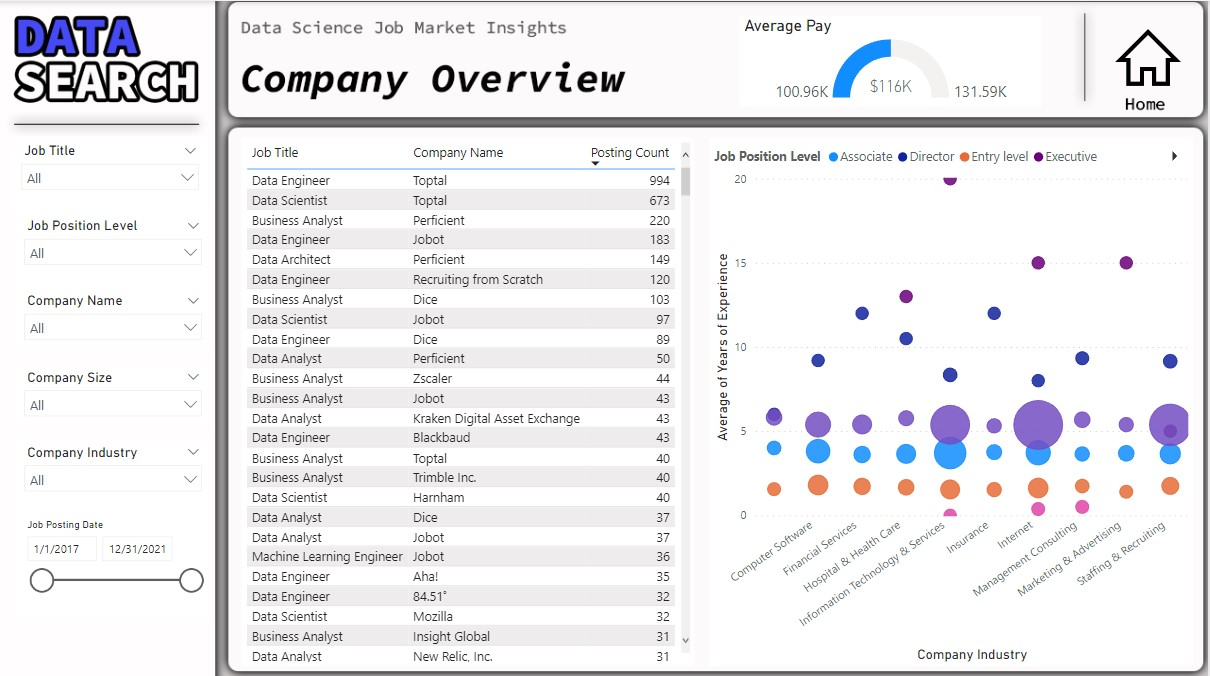

The page's visual inventory and layout, read from the dashboard file:
{"tool":"powerbi","page":{"name":"Company","canvas":[1280,720],"ordinal":3},"visuals":[{"type":"slicer","fields":{"Values":["Job Postings.Job Title"]},"box":[12,144,208,80],"z":0},{"type":"slicer","fields":{"Values":["Job Postings.Job Position Level"]},"box":[16,224,208,80],"z":1000},{"type":"slicer","fields":{"Values":["Job Postings.Company Name"]},"box":[16,304,208,64],"z":2000},{"type":"slicer","fields":{"Values":["Job Postings.Company Size"]},"box":[16,384,208,64],"z":3000},{"type":"slicer","fields":{"Values":["Job Postings.Company Industry"]},"box":[16,464,208,80],"z":4000},{"type":"slicer","fields":{"Values":["Job Postings.Job Posting Date"]},"box":[16,544,208,112],"z":5000},{"type":"scatterChart","fields":{"Y":["Avg(Job Postings.Years of Experience)"],"X":["Job Postings.Company Industry"],"Size":["_Measures.Posting Count"],"Series":["Job Postings.Job Position Level"]},"box":[752,144,512,560],"z":6000},{"type":"tableEx","fields":{"Values":["Job Postings.Job Title","Job Postings.Company Name","_Measures.Posting Count"]},"box":[256,144,480,560],"z":7000},{"type":"gauge","title":"Average Pay","fields":{"Y":["_Measures.Average of Average Pay"],"MinValue":["Avg(Job Postings.Minimum Pay)"],"MaxValue":["Avg(Job Postings.Maximum Pay)"]},"box":[784,16,320,96],"z":8000},{"type":"image","box":[1176,16,80,88],"z":9000}]}

Visuals, with their boxes in screenshot pixels (x1, y1, x2, y2), scaled from the page's 1280x720 canvas onto the 1210x676 screenshot:
slicer - Job Postings.Job Title: select_region(11, 135, 208, 210)
slicer - Job Postings.Job Position Level: select_region(15, 210, 212, 285)
slicer - Job Postings.Company Name: select_region(15, 285, 212, 346)
slicer - Job Postings.Company Size: select_region(15, 361, 212, 421)
slicer - Job Postings.Company Industry: select_region(15, 436, 212, 511)
slicer - Job Postings.Job Posting Date: select_region(15, 511, 212, 616)
scatterChart - Avg(Job Postings.Years of Experience) x Job Postings.Company Industry: select_region(711, 135, 1195, 661)
tableEx - Job Postings.Job Title x Job Postings.Company Name: select_region(242, 135, 696, 661)
"Average Pay" gauge: select_region(741, 15, 1044, 105)
image: select_region(1112, 15, 1187, 98)
